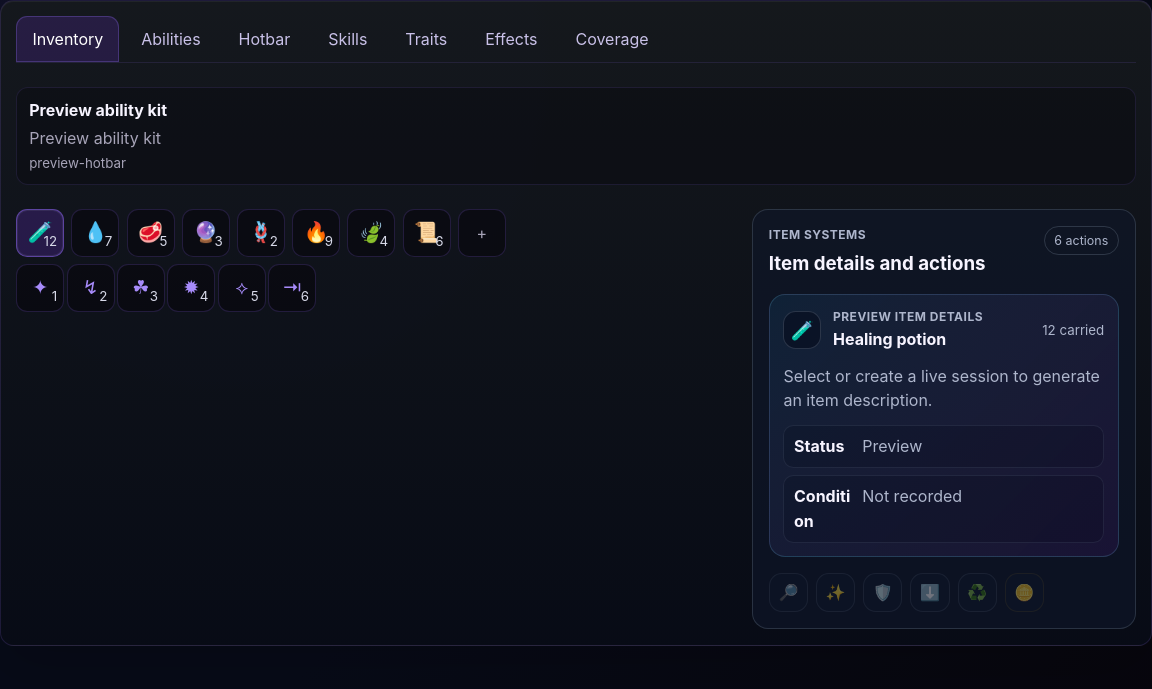
Test: RpgLoadoutTabs › renders inventory by default and switches to abilities and hotbar panels
This screenshot has width=1152, height=689.
Expected: the panel named "Inventory" shows "12", left=16, top=209, right=64, bottom=257
Expected: the element named "Selected item details: Healing potion" shows "Preview item details", left=833, top=309, right=983, bottom=324
Click the tab "Abilities" at (171, 39), box left=125, top=16, right=217, bottom=62
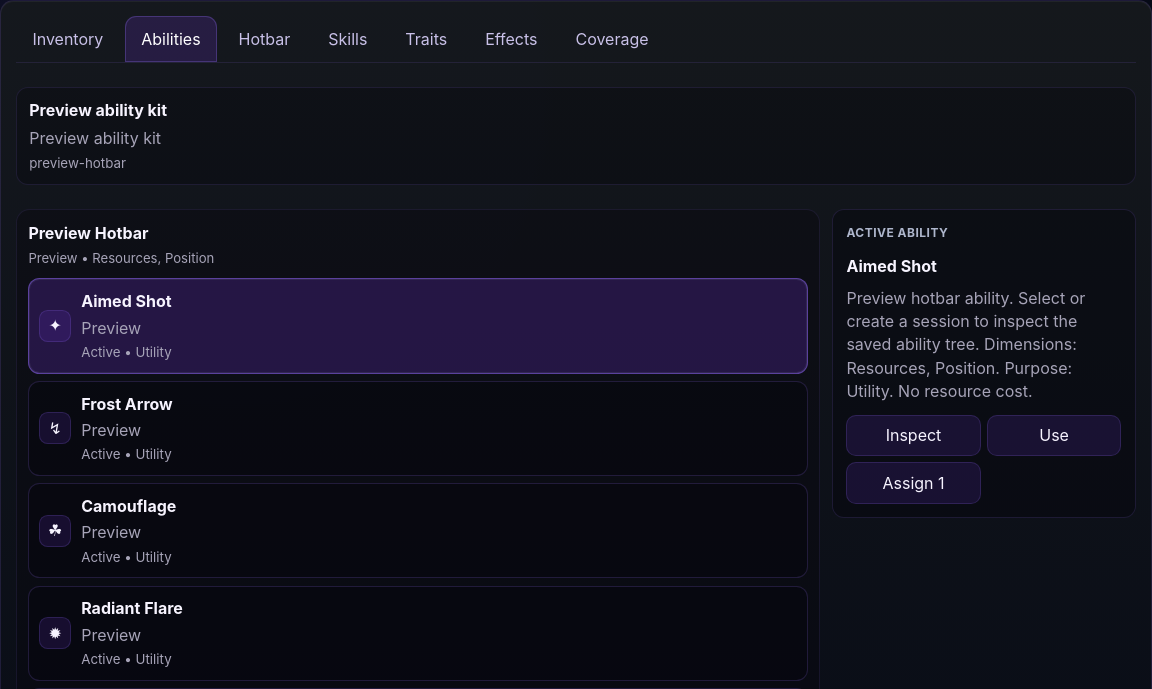
Expected: the panel named "Abilities" shows "Aimed Shot", left=28, top=278, right=808, bottom=374
Expected: the element named "Active ability: Aimed Shot" is shown, left=832, top=209, right=1136, bottom=518
Click the tab "Hotbar" at (264, 39), box left=222, top=16, right=306, bottom=62
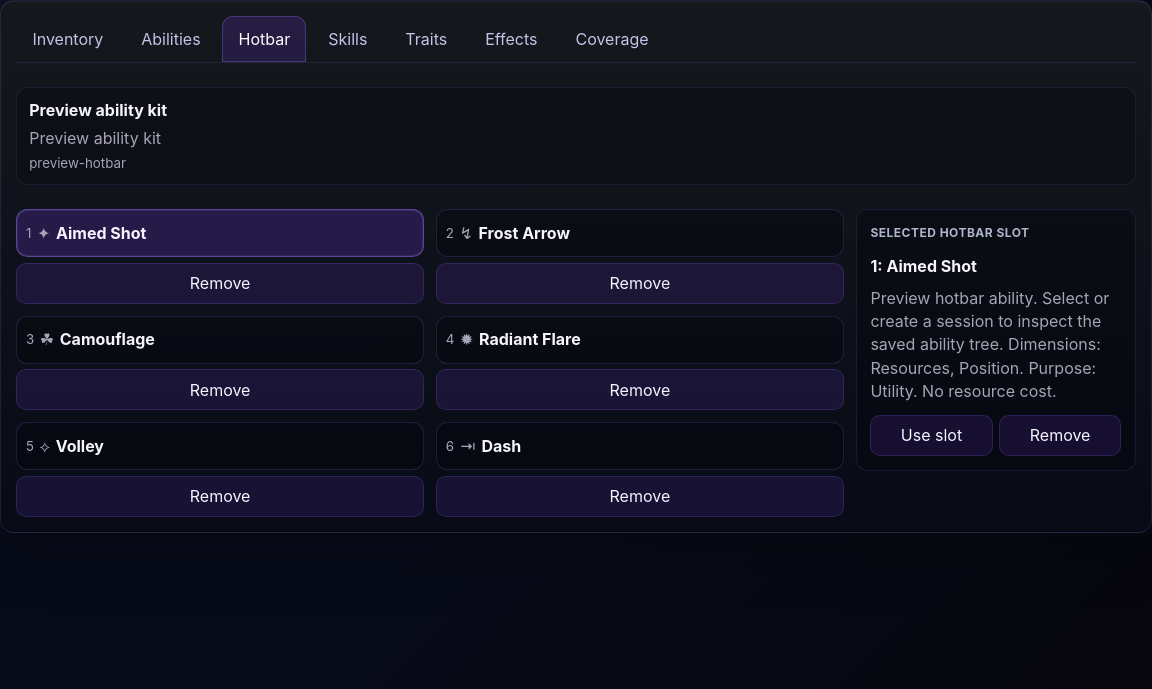
Expected: the panel named "Hotbar" shows "Frost Arrow", left=436, top=209, right=844, bottom=257
Expected: the button "1 ✦ Aimed Shot" is shown, left=16, top=209, right=424, bottom=257
